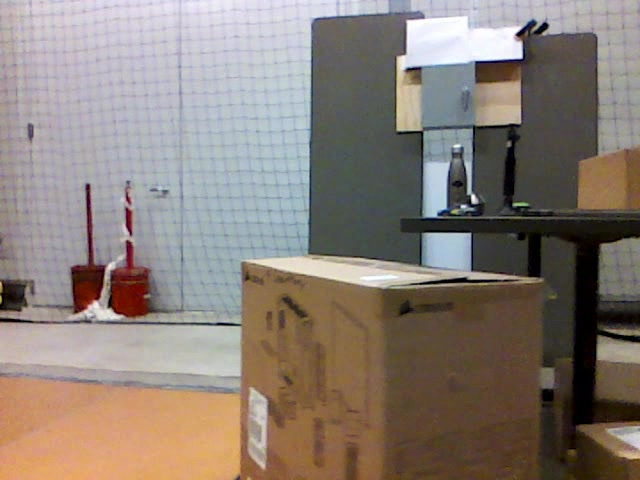box: (240, 255, 541, 480), (556, 359, 640, 457), (578, 146, 640, 210), (577, 423, 640, 478)
